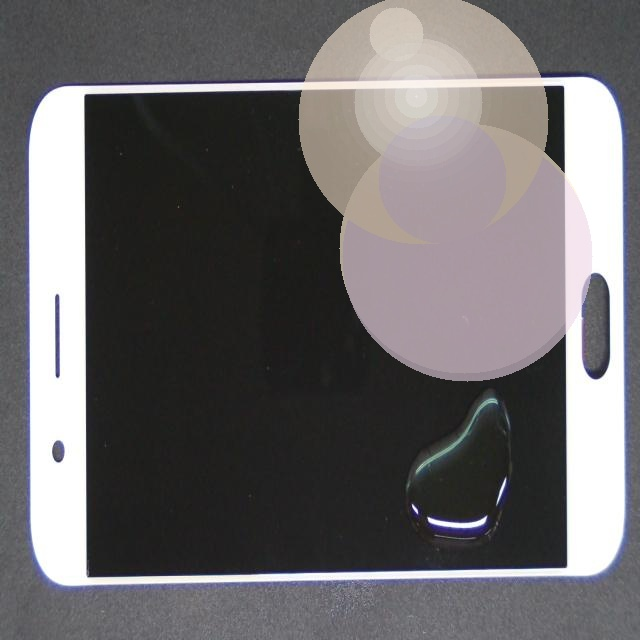oil: (232, 314, 640, 640)
